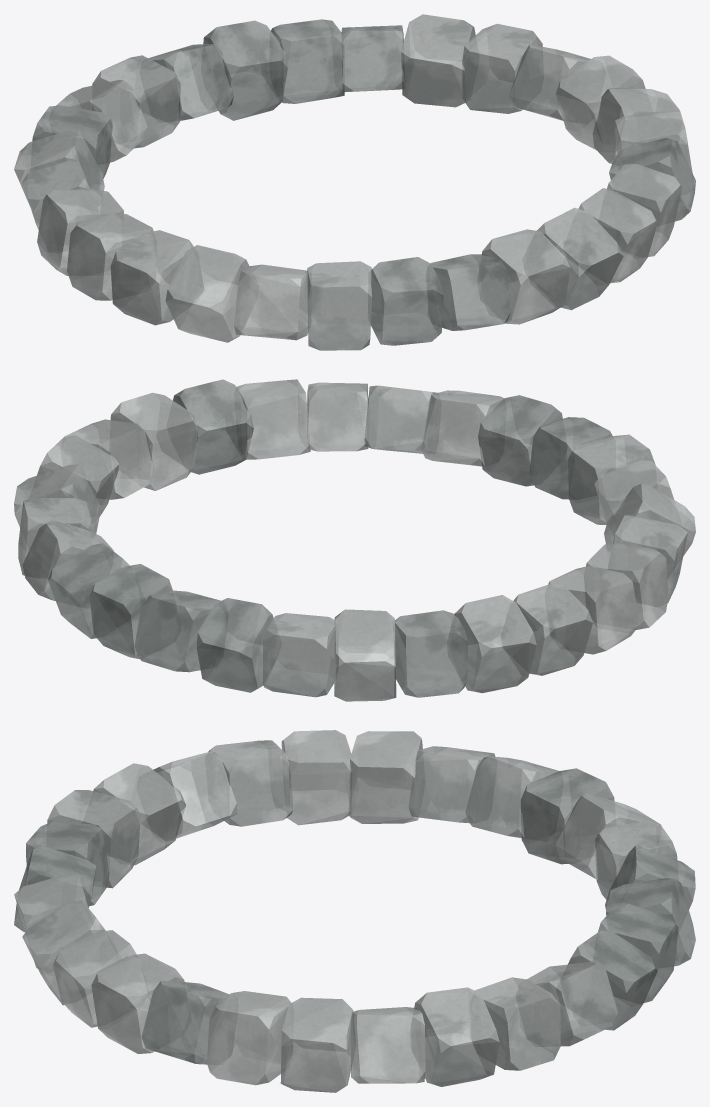
Rendered from standard.glb.
The picture shows the model from 3 angles, top to bottom: view 1: azimuth 30°, elevation 25°; view 2: azimuth 150°, elevation 25°; view 3: azimuth 270°, elevation 25°; orthographic projection. The views are drawn at different scales.
Visible parts, largest first — view 1: facet_kostka_0.004, facet_kostka_2.001, facet_kostka_1.005, facet_kostka_3.004, facet_kostka_3, facet_kostka_3.003, facet_kostka_2.005, facet_kostka_2.004, facet_kostka_1.001, facet_kostka_1.004, facet_kostka_2, facet_kostka_2.003 (+16 smaller); view 2: facet_kostka_3.002, facet_kostka_3.001, facet_kostka_2.002, facet_kostka_0.002, facet_kostka_1.002, facet_kostka_2.001, facet_kostka_2.006, facet_kostka_1.006, facet_kostka_1.003, facet_kostka_1.001, facet_kostka_0.003, facet_kostka_0.006 (+16 smaller); view 3: facet_kostka_1, facet_kostka_2.006, facet_kostka_3.006, facet_kostka_1.003, facet_kostka_0.006, facet_kostka_2.003, facet_kostka_2, facet_kostka_3.003, facet_kostka_0, facet_kostka_1.006, facet_kostka_1.004, facet_kostka_3 (+16 smaller).
Boxes of the visible parts, bbox=[...] form: facet_kostka_0.004: bbox=[165, 245, 256, 342]; facet_kostka_2.001: bbox=[203, 20, 287, 120]; facet_kostka_1.005: bbox=[478, 229, 570, 324]; facet_kostka_3.004: bbox=[368, 257, 443, 345]; facet_kostka_3: bbox=[401, 14, 475, 107]; facet_kostka_3.003: bbox=[110, 230, 203, 325]; facet_kostka_2.005: bbox=[524, 207, 623, 310]; facet_kostka_2.004: bbox=[307, 261, 371, 350]; facet_kostka_1.001: bbox=[271, 19, 344, 103]; facet_kostka_1.004: bbox=[233, 264, 311, 340]; facet_kostka_2: bbox=[462, 23, 542, 113]; facet_kostka_2.003: bbox=[67, 213, 155, 300]; facet_kostka_3.002: bbox=[448, 595, 536, 693]; facet_kostka_3.001: bbox=[196, 598, 279, 692]; facet_kostka_2.002: bbox=[393, 610, 468, 697]; facet_kostka_0.002: bbox=[262, 613, 338, 697]; facet_kostka_1.002: bbox=[334, 609, 396, 701]; facet_kostka_2.001: bbox=[134, 590, 226, 672]; facet_kostka_2.006: bbox=[110, 392, 197, 490]; facet_kostka_1.006: bbox=[173, 379, 253, 474]; facet_kostka_1.003: bbox=[547, 565, 639, 654]; facet_kostka_1.001: bbox=[89, 564, 179, 659]; facet_kostka_0.003: bbox=[501, 583, 592, 675]; facet_kostka_0.006: bbox=[236, 379, 310, 459]; facet_kostka_1: bbox=[411, 987, 499, 1086]; facet_kostka_2.006: bbox=[207, 991, 293, 1085]; facet_kostka_3.006: bbox=[280, 997, 355, 1092]; facet_kostka_1.003: bbox=[348, 731, 422, 823]; facet_kostka_0.006: bbox=[91, 953, 189, 1053]; facet_kostka_2.003: bbox=[281, 730, 351, 825]; facet_kostka_2: bbox=[470, 977, 560, 1070]; facet_kostka_3.003: bbox=[208, 740, 293, 826]; facet_kostka_0: bbox=[351, 1007, 425, 1083]; facet_kostka_1.006: bbox=[141, 981, 237, 1064]; facet_kostka_1.004: bbox=[93, 763, 185, 865]; facet_kostka_3: bbox=[516, 961, 617, 1046].
Size of the model in its own units: 6.42 by 0.8579 by 6.07.
Materials: 3 (3 with a texture image).
